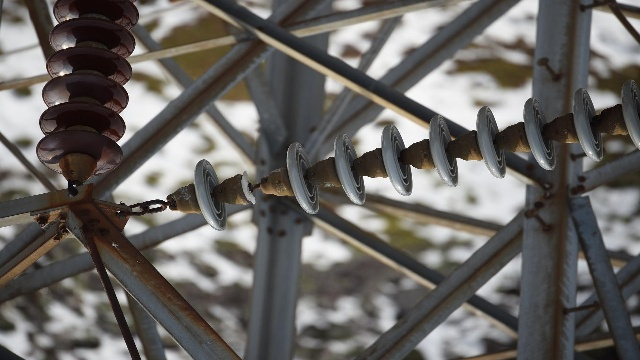broken_local: (238, 172, 257, 204)
insulator_unspecified: (192, 78, 639, 231), (37, 0, 137, 176)
